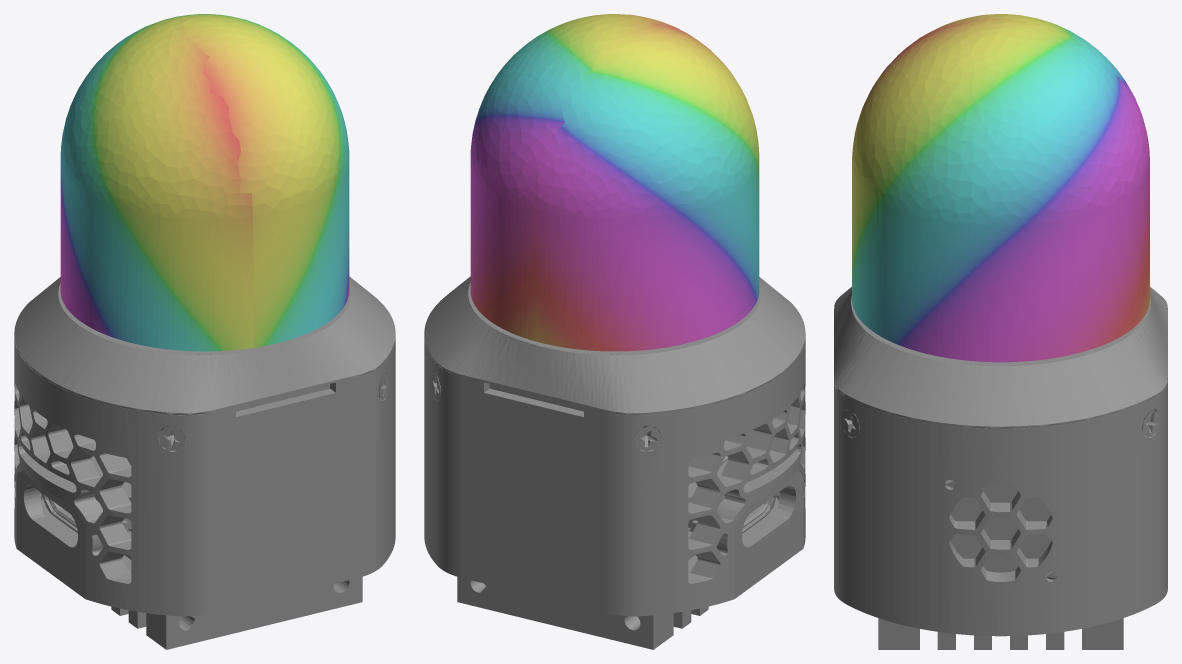
File: digitv2.dae
3 renders of one model, left to right at view 1: azimuth 30°, elevation 25°; view 2: azimuth 150°, elevation 25°; view 3: azimuth 270°, elevation 25°, orthographic. The views are drawn at different scales.
Visible parts, largest first — view 1: digitv2, digitv2.001; view 2: digitv2, digitv2.001; view 3: digitv2, digitv2.001.
Part boxes in pixels (x1,y1,x2,y2): digitv2: (14, 276, 395, 649); digitv2.001: (60, 14, 349, 351); digitv2: (424, 276, 805, 649); digitv2.001: (470, 14, 759, 351); digitv2: (834, 287, 1167, 649); digitv2.001: (852, 14, 1149, 362).
Bounding box in the file's own units: 0.3301 × 0.28 × 0.5302.
Materials: 2 (1 with a texture image).
